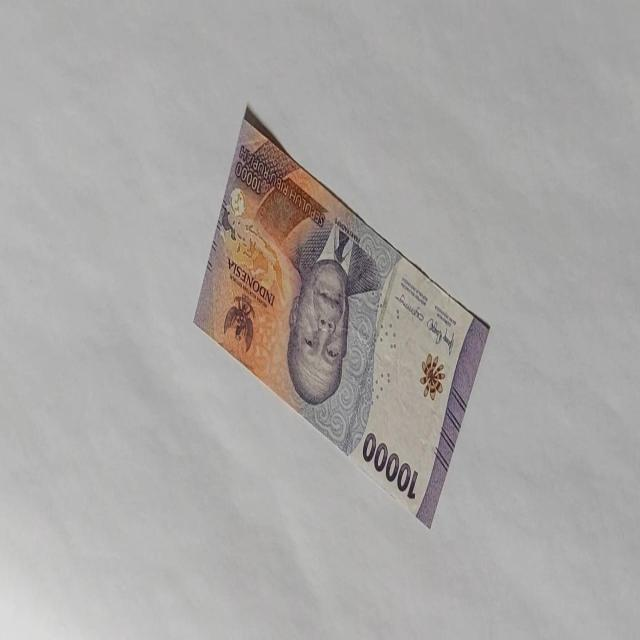Kertas: (193, 103, 491, 531), (361, 430, 419, 500)
